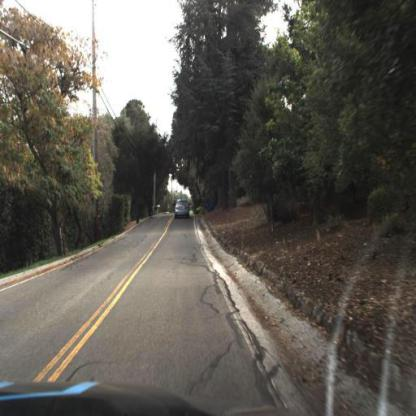car: (173, 197, 193, 223)
